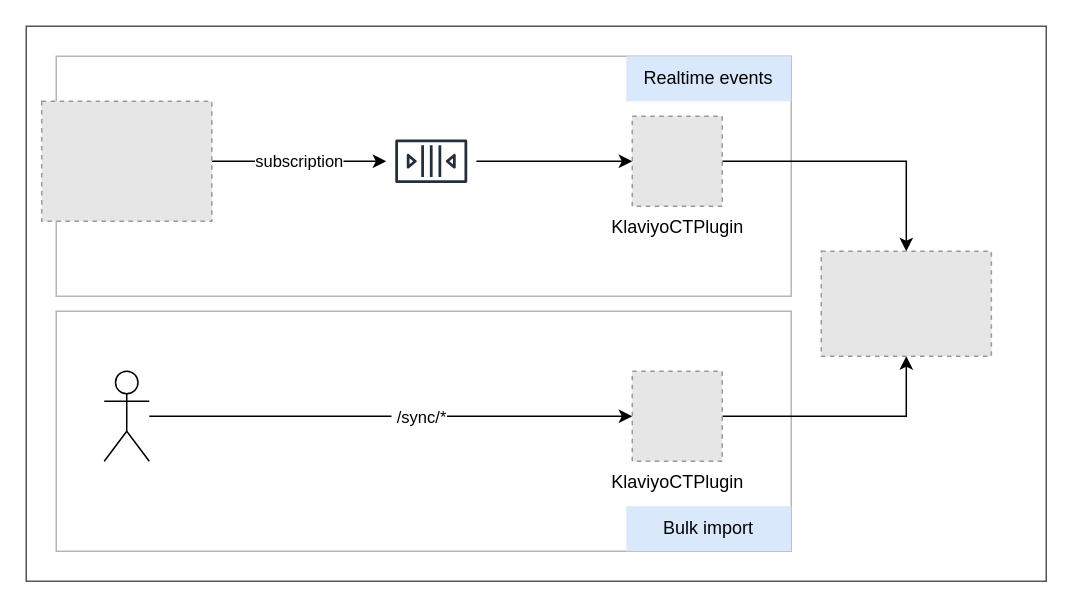
Image size: 1073x608. Some labels were removed from this diagram. Grey dashed boxes stand in for pictures. The centre of each missing label's shape, as x and y in pixels:
API call trigger: the point at 126,415
Queue: the point at 430,160
